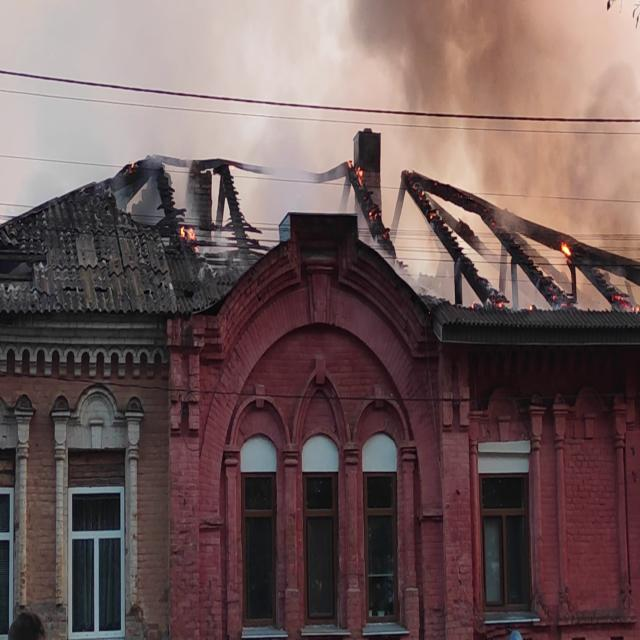fire: (554, 227, 590, 279), (177, 215, 208, 262), (346, 151, 370, 209)
smoke: (383, 0, 618, 223), (284, 138, 332, 214)
